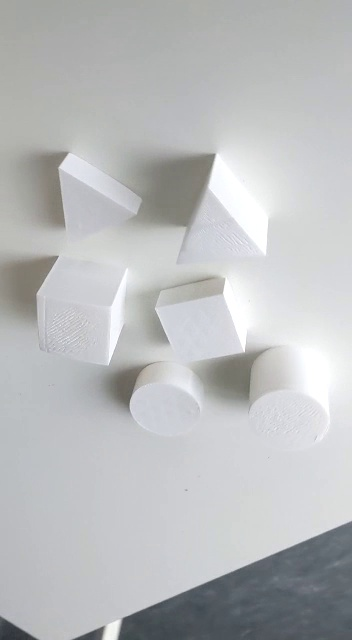Clyinder_short: (128, 360, 206, 442)
Cube: (32, 250, 128, 368)
Cube_short: (152, 273, 248, 364)
Cylinder: (243, 345, 332, 451)
Triangle: (171, 151, 273, 279)
Triangle_short: (52, 150, 146, 254)
